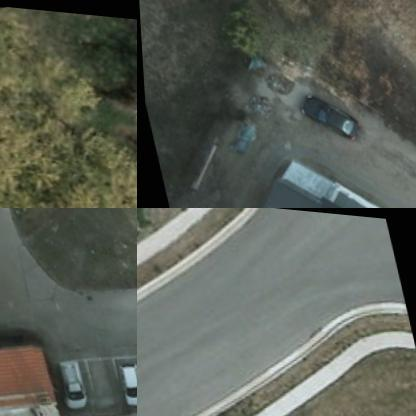car: (294, 88, 358, 146), (54, 354, 88, 410), (109, 355, 136, 405)
